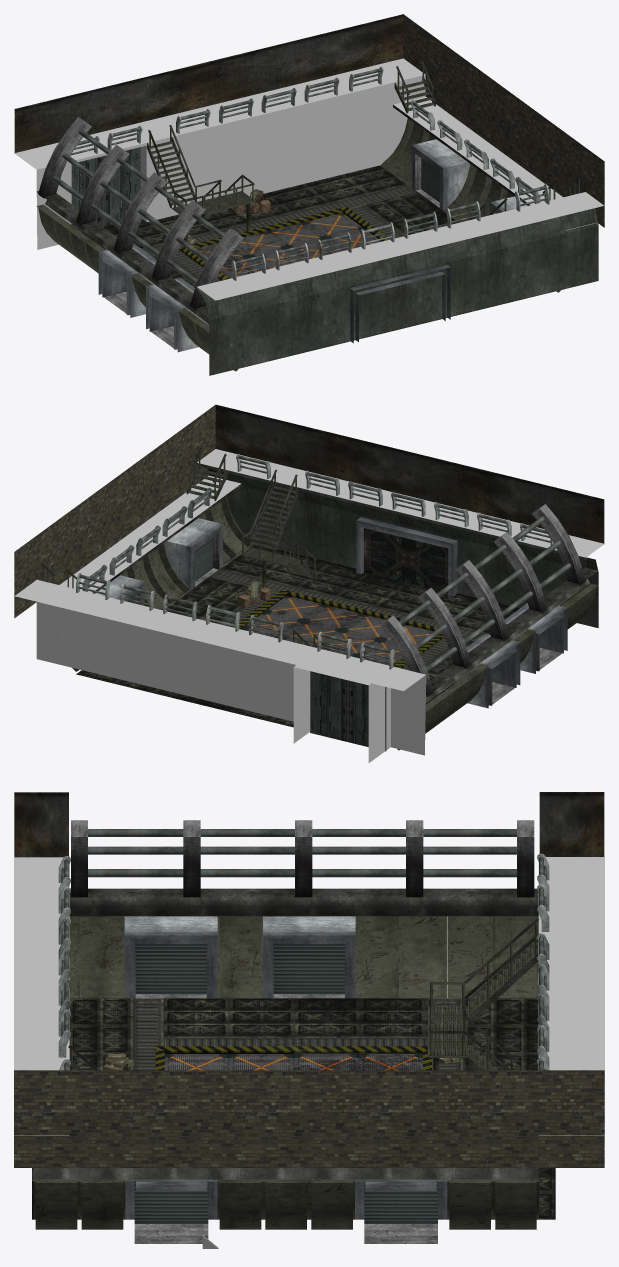
File: scence_0.FBX
The picture shows the model from 3 angles, top to bottom: view 1: azimuth 30°, elevation 25°; view 2: azimuth 150°, elevation 25°; view 3: azimuth 270°, elevation 25°; orthographic projection. The views are drawn at different scales.
Parts seen in each view (by area): view 1: 1, Object03, 2, Object11, Plane02, pillar, Object10, railing, Plane01, objheadusOBJexport03, Object05, objheadusOBJexport02 (+3 smaller); view 2: Object03, 2, Object11, Plane02, 1, pillar, Object10, railing, Plane01, Object12, objheadusOBJexport03, Object05 (+3 smaller); view 3: Object10, Plane02, Object03, pillar, Object11, objheadusOBJexport03, objheadusOBJexport02, railing, Object05, Plane01, UTypeStair01.
Part boxes in pixels (left/top/right/bottom): 1: left=196, top=208, right=598, bottom=375; Object03: left=14, top=14, right=568, bottom=323; 2: left=36, top=75, right=425, bottom=249; Object11: left=14, top=58, right=604, bottom=300; Plane02: left=82, top=60, right=580, bottom=366; pillar: left=38, top=117, right=450, bottom=352; Object10: left=403, top=14, right=604, bottom=227; railing: left=52, top=66, right=549, bottom=284; Plane01: left=196, top=213, right=381, bottom=278; objheadusOBJexport03: left=36, top=66, right=579, bottom=371; Object05: left=411, top=139, right=527, bottom=214; objheadusOBJexport02: left=380, top=118, right=560, bottom=292; Object03: left=92, top=404, right=604, bottom=702; 2: left=36, top=602, right=426, bottom=762; Object11: left=14, top=449, right=604, bottom=691; Plane02: left=42, top=448, right=519, bottom=727; 1: left=196, top=463, right=598, bottom=628; pillar: left=356, top=504, right=585, bottom=708; Object10: left=14, top=405, right=215, bottom=618; railing: left=76, top=454, right=571, bottom=671; Plane01: left=241, top=595, right=433, bottom=665; Object12: left=310, top=671, right=386, bottom=751; objheadusOBJexport03: left=43, top=453, right=598, bottom=750; Object05: left=95, top=518, right=222, bottom=605; Object10: left=14, top=1070, right=604, bottom=1167; Plane02: left=32, top=918, right=555, bottom=1219; Object03: left=14, top=792, right=604, bottom=1180; pillar: left=71, top=820, right=534, bottom=998; Object11: left=14, top=856, right=604, bottom=1135; objheadusOBJexport03: left=69, top=916, right=538, bottom=1070; objheadusOBJexport02: left=33, top=1176, right=538, bottom=1229; railing: left=58, top=829, right=549, bottom=1070; Object05: left=125, top=1179, right=447, bottom=1243; Plane01: left=164, top=1054, right=422, bottom=1070; UTypeStair01: left=69, top=942, right=538, bottom=1070.
Bounding box in the file's own units: 254 × 79.28 × 227.
